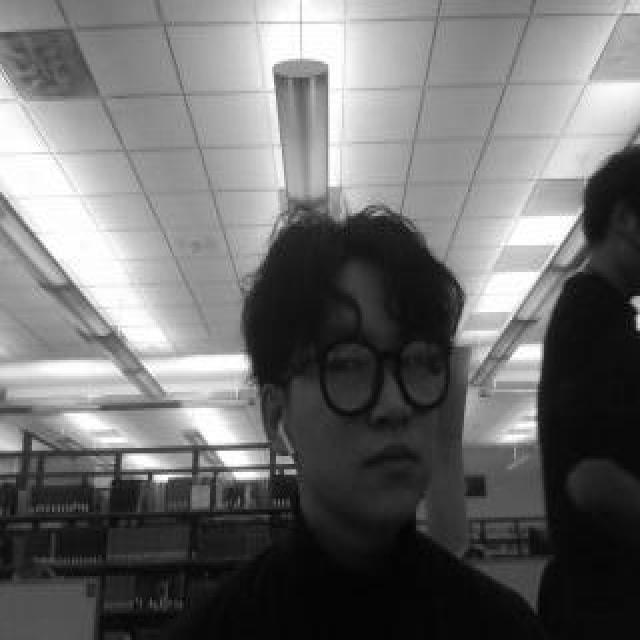Focused: (307, 259, 457, 532)
